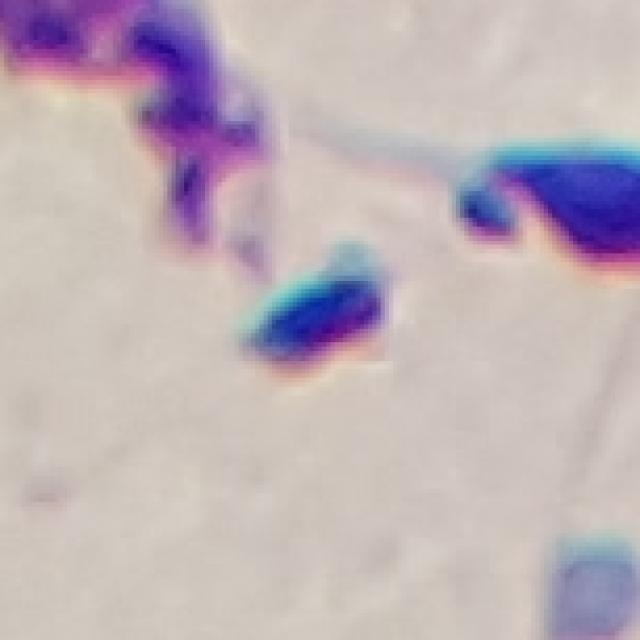non-sperm: (248, 262, 391, 378)
